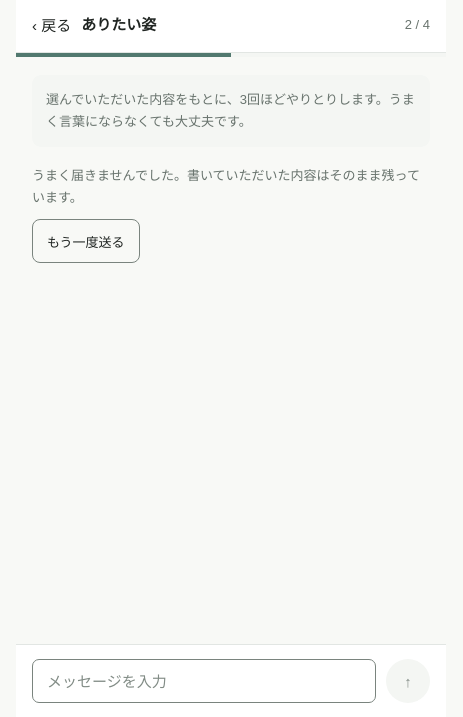
Scenario: S-32 › 「もう一度送る」を押したときだけ再試行する(自動リトライしない)
The width and height of the screenshot is (463, 717).
Click the button "もう一度送る". click: {"x": 86, "y": 241}
box: x1=32 y1=219 x2=140 y2=263
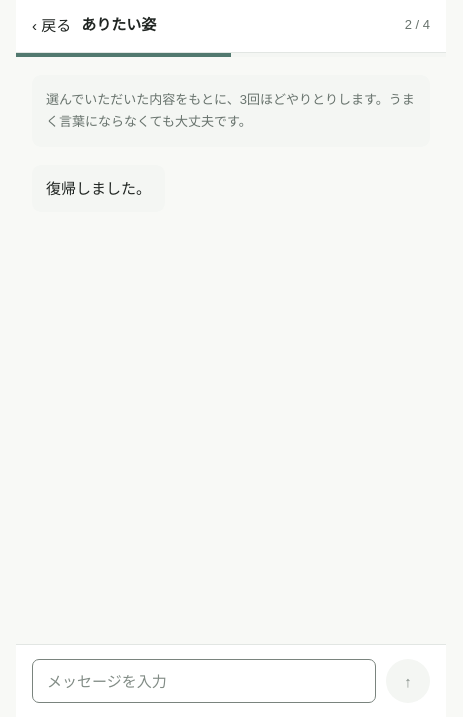
Expected: the text "復帰しました。" is shown, x1=32 y1=165 x2=165 y2=212
Expected: the text "うまく届きませんでした" is gone
